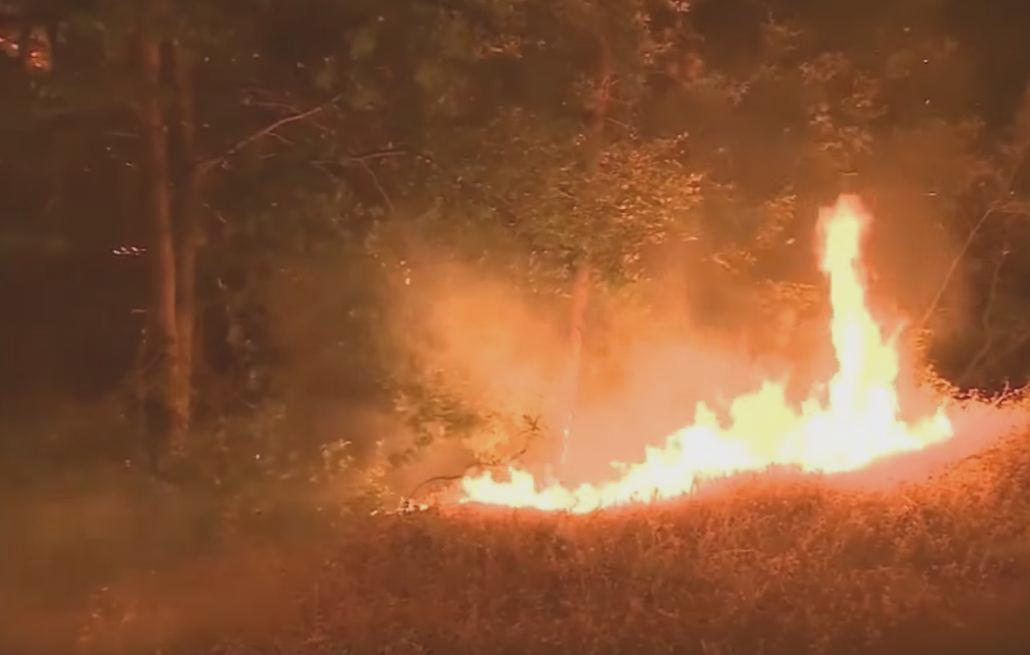fire: (454, 196, 941, 508)
